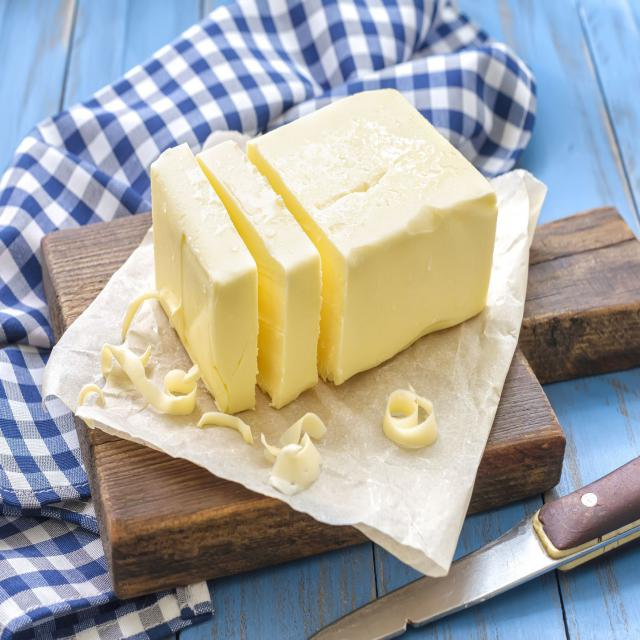butter: (147, 92, 498, 406)
